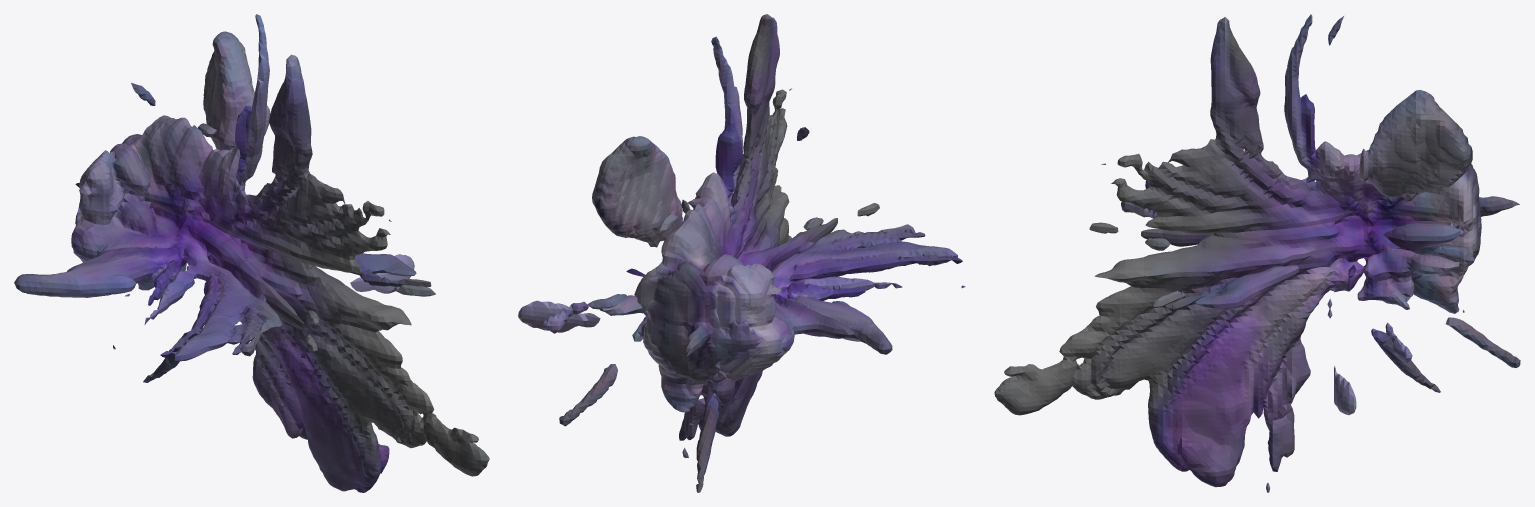
3 views of the same model, side by side, from view 1: azimuth 30°, elevation 25°; view 2: azimuth 150°, elevation 25°; view 3: azimuth 270°, elevation 25° (orthographic).
Bounding box in the file's own units: 0.636 × 0.7142 × 0.752.
